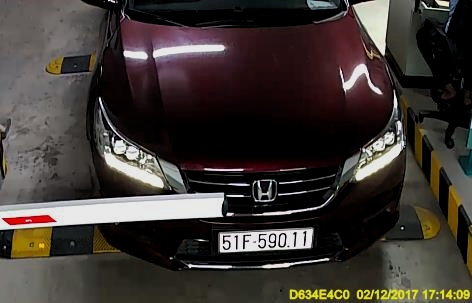plate: (212, 227, 318, 251)
